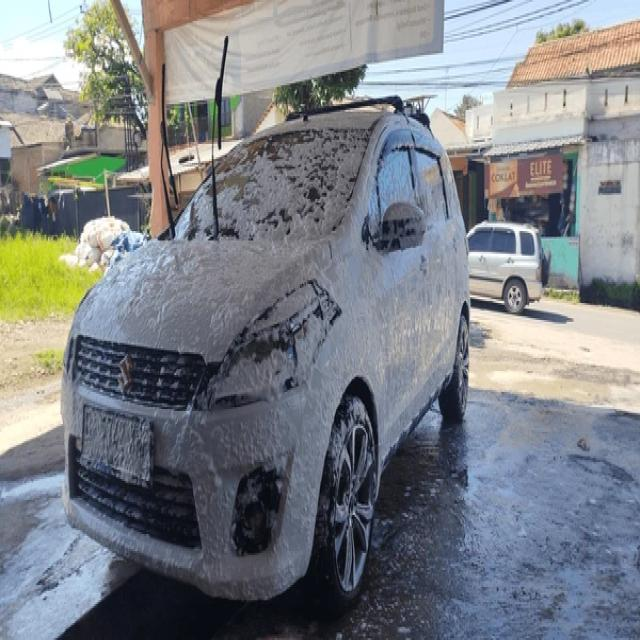suzuki: (117, 354, 134, 400)
